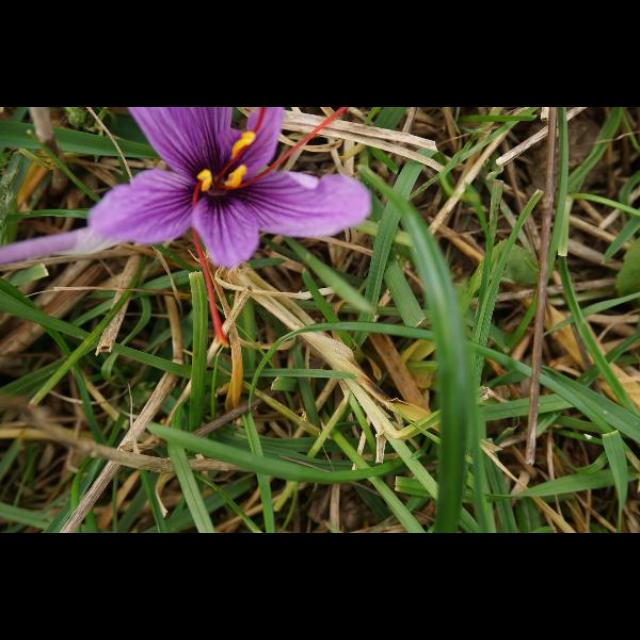flower: (86, 108, 374, 268)
